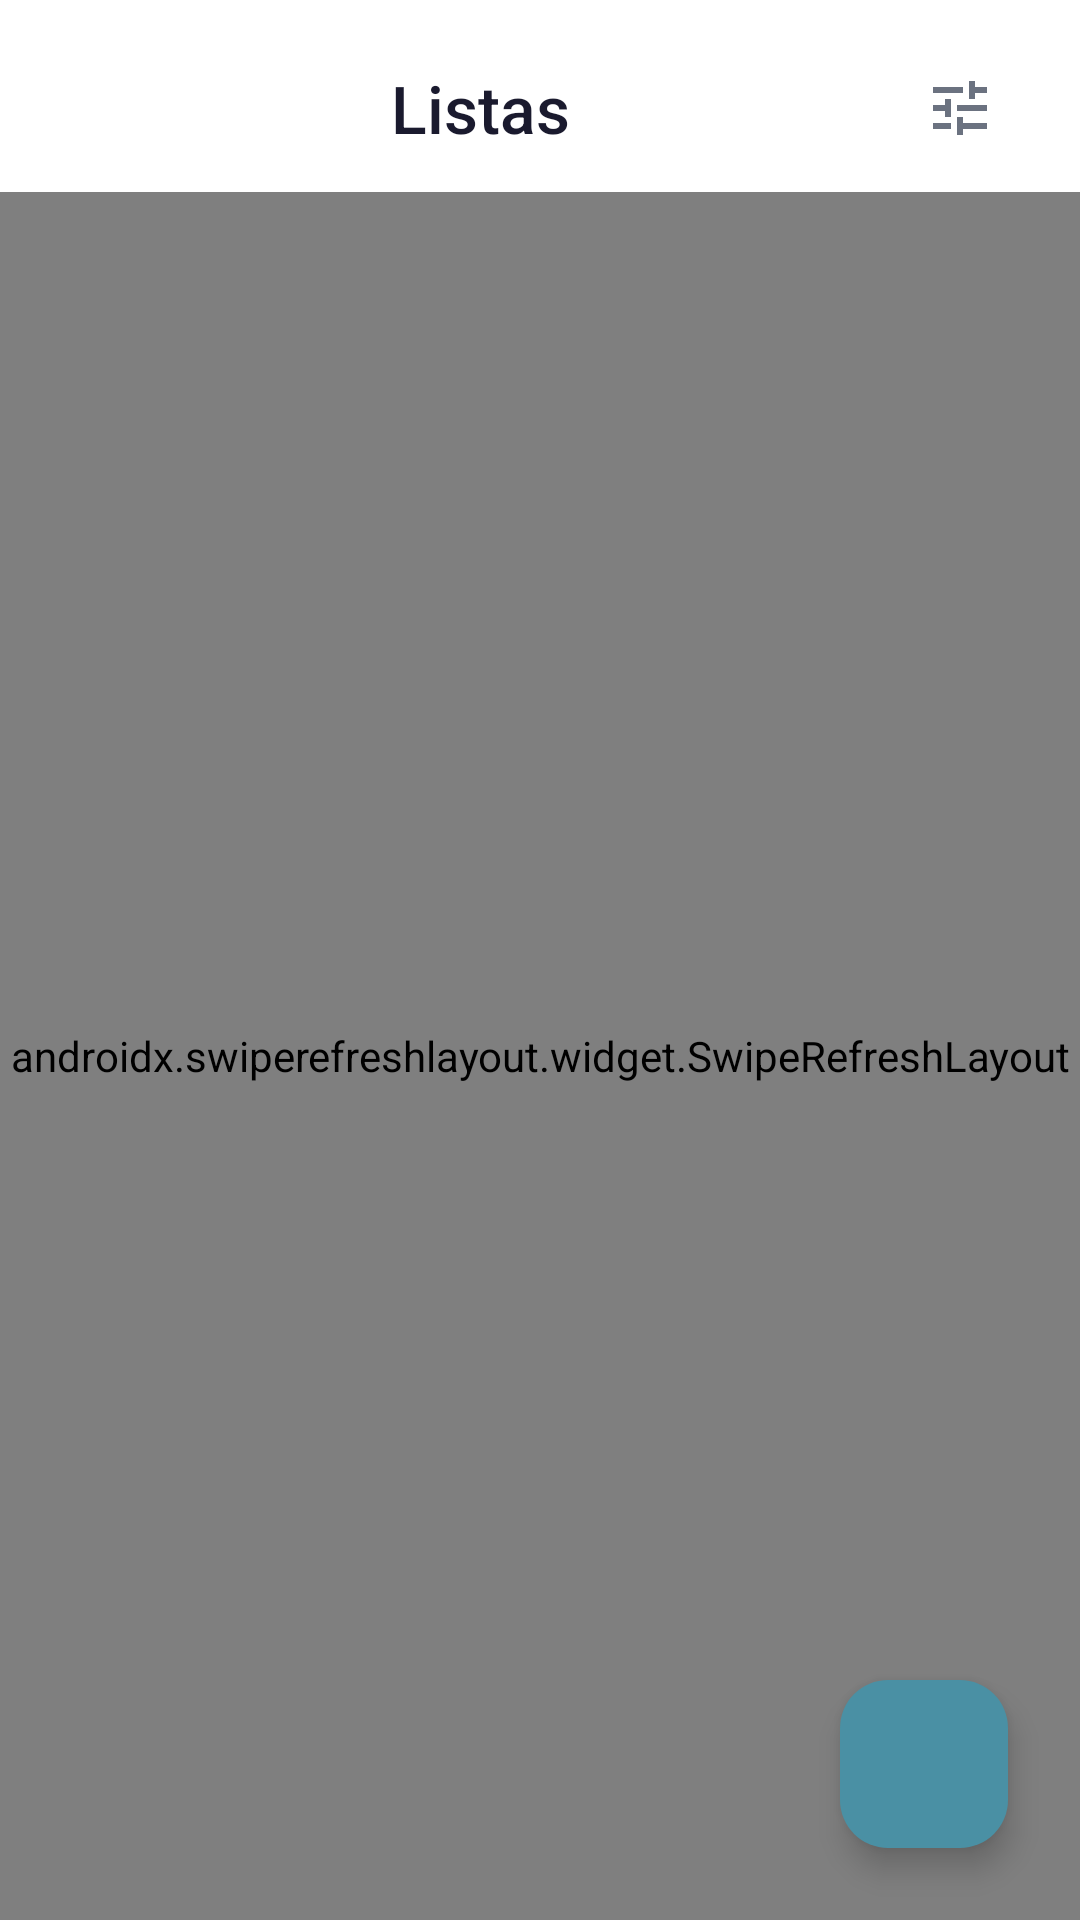

Screen size 1080x1920. Icon name, then its box in pixels as (x1, y1, x2, y2):
Filtrar: (933, 81, 987, 135)
